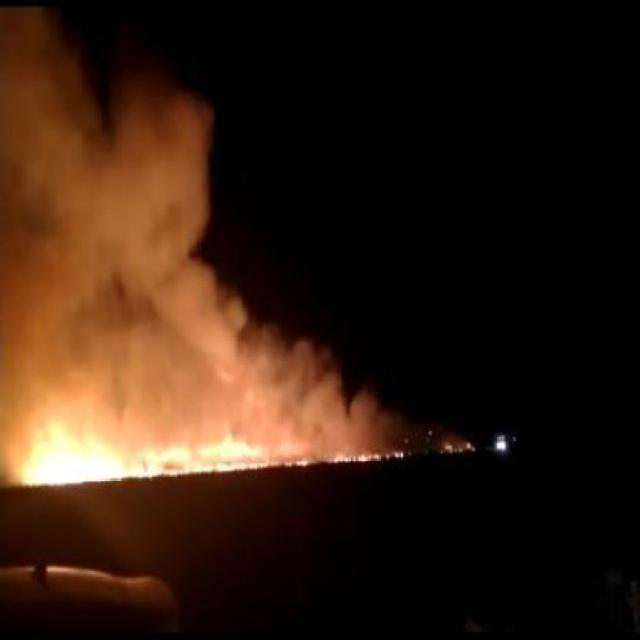Fire: (17, 428, 319, 489), (328, 450, 408, 464)
